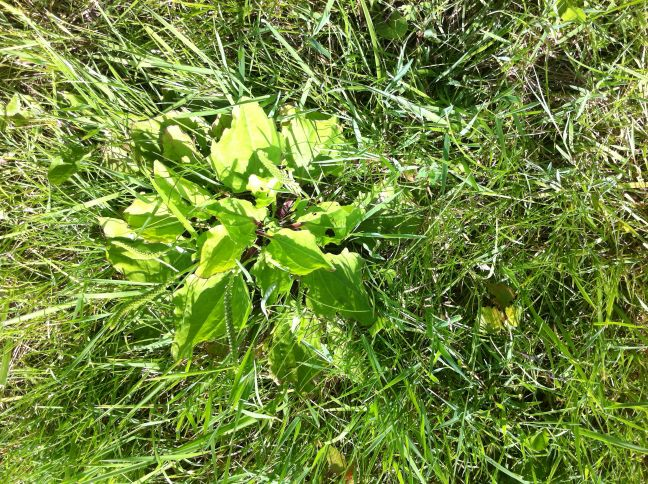weed1: (98, 98, 380, 368)
